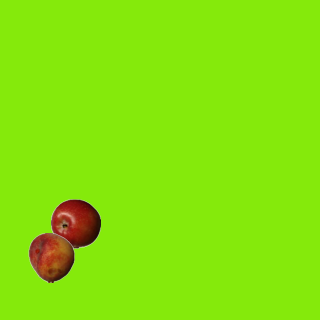Apple Braeburn: (50, 198, 100, 248)
Peach: (26, 232, 76, 282)
